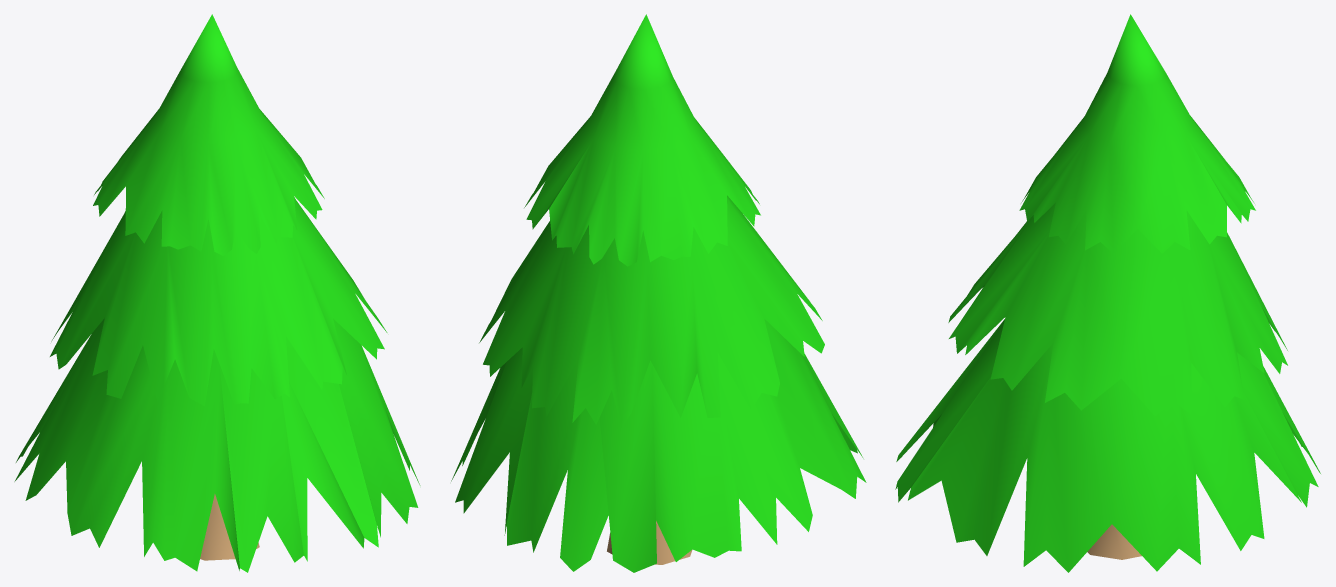
Rendered from tree_new.fbx.
The picture shows the model from 3 angles, left to right: view 1: azimuth 30°, elevation 25°; view 2: azimuth 150°, elevation 25°; view 3: azimuth 270°, elevation 25°; orthographic projection. The views are drawn at different scales.
Visible parts, largest first — view 1: tree_new; view 2: tree_new; view 3: tree_new.
Part boxes in pixels (box(x1,y1,x2,y2)): tree_new: box(14, 14, 420, 572); tree_new: box(451, 14, 866, 572); tree_new: box(895, 14, 1320, 572).
Bounding box in the file's own units: 307 × 454 × 332.
